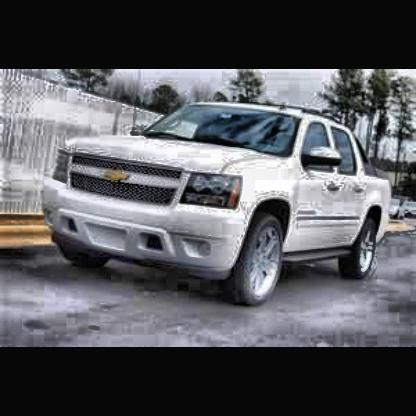Chevrolet Avalanche Crew Cab 2012: (40, 98, 397, 315)
